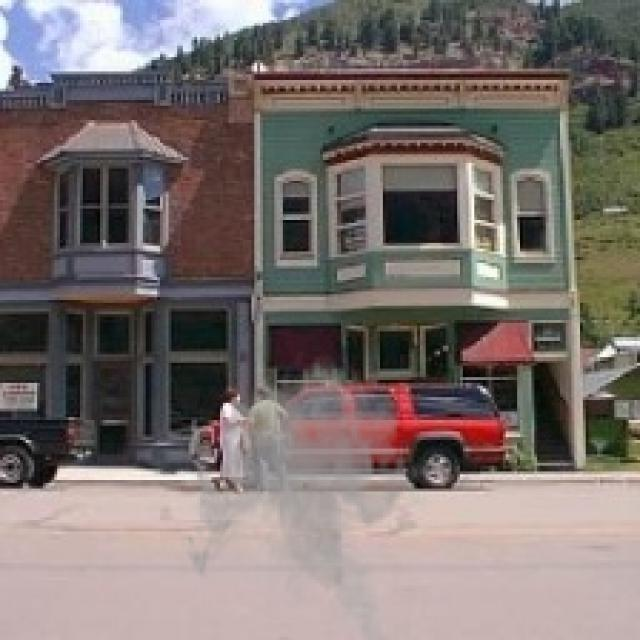Smoke: (180, 352, 423, 617)
